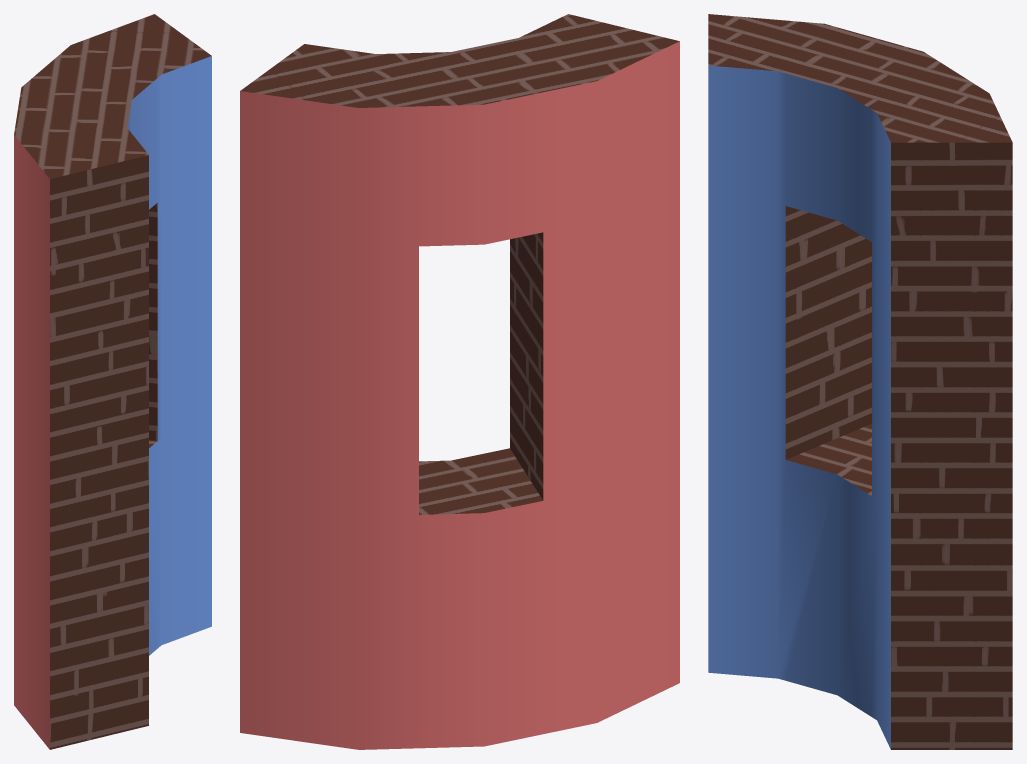
The model's file is corner1_250.FBX.
The picture shows the model from 3 angles, left to right: view 1: azimuth 30°, elevation 25°; view 2: azimuth 150°, elevation 25°; view 3: azimuth 270°, elevation 25°; orthographic projection. The views are drawn at different scales.
Visible parts, largest first — view 1: corner1_250; view 2: corner1_250; view 3: corner1_250.
Boxes of the visible parts, left/top/right/bottom form: corner1_250: left=14, top=14, right=211, bottom=749; corner1_250: left=240, top=14, right=679, bottom=749; corner1_250: left=708, top=14, right=1012, bottom=749.
Size of the model in its own units: 250 by 250 by 550.
3 materials, 1 textured.
